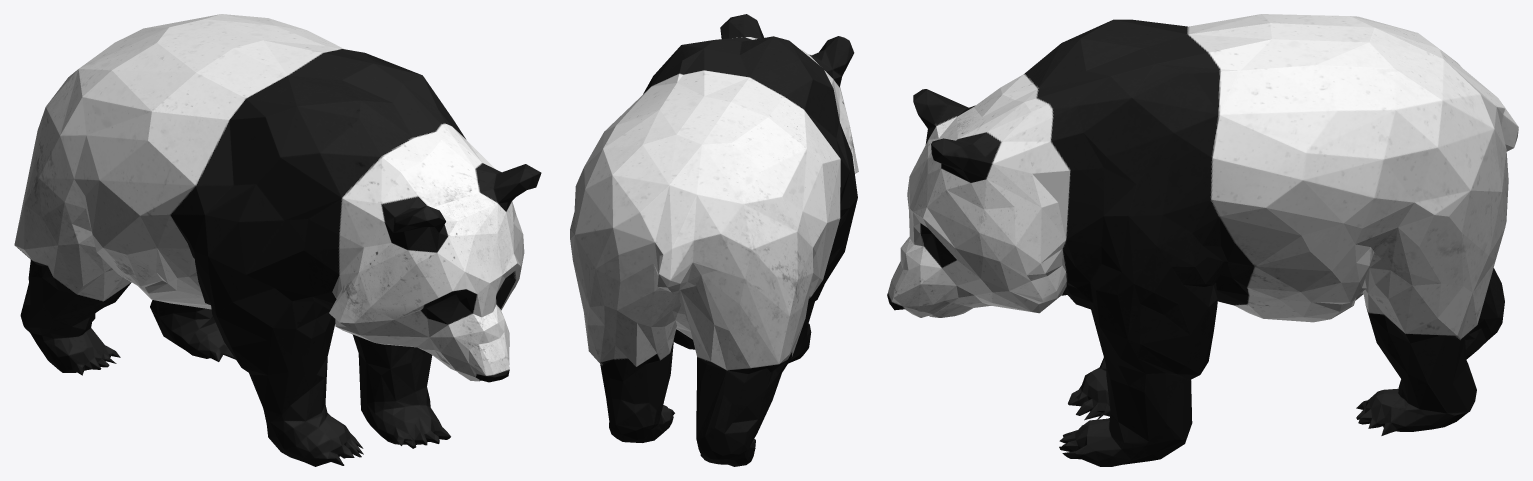
Rendered from examplePanda.glb.
The picture shows the model from 3 angles, left to right: view 1: azimuth 30°, elevation 25°; view 2: azimuth 150°, elevation 25°; view 3: azimuth 270°, elevation 25°; orthographic projection. The views are drawn at different scales.
Parts seen in each view (by area): view 1: panda.1; view 2: panda.1; view 3: panda.1.
Part boxes in pixels (box(x1,y1,x2,y2)): panda.1: box(14, 14, 541, 466); panda.1: box(570, 14, 858, 466); panda.1: box(887, 14, 1518, 466).
Bounding box in the file's own units: 1.41 × 1.57 × 2.32.
1 material, 1 textured.
